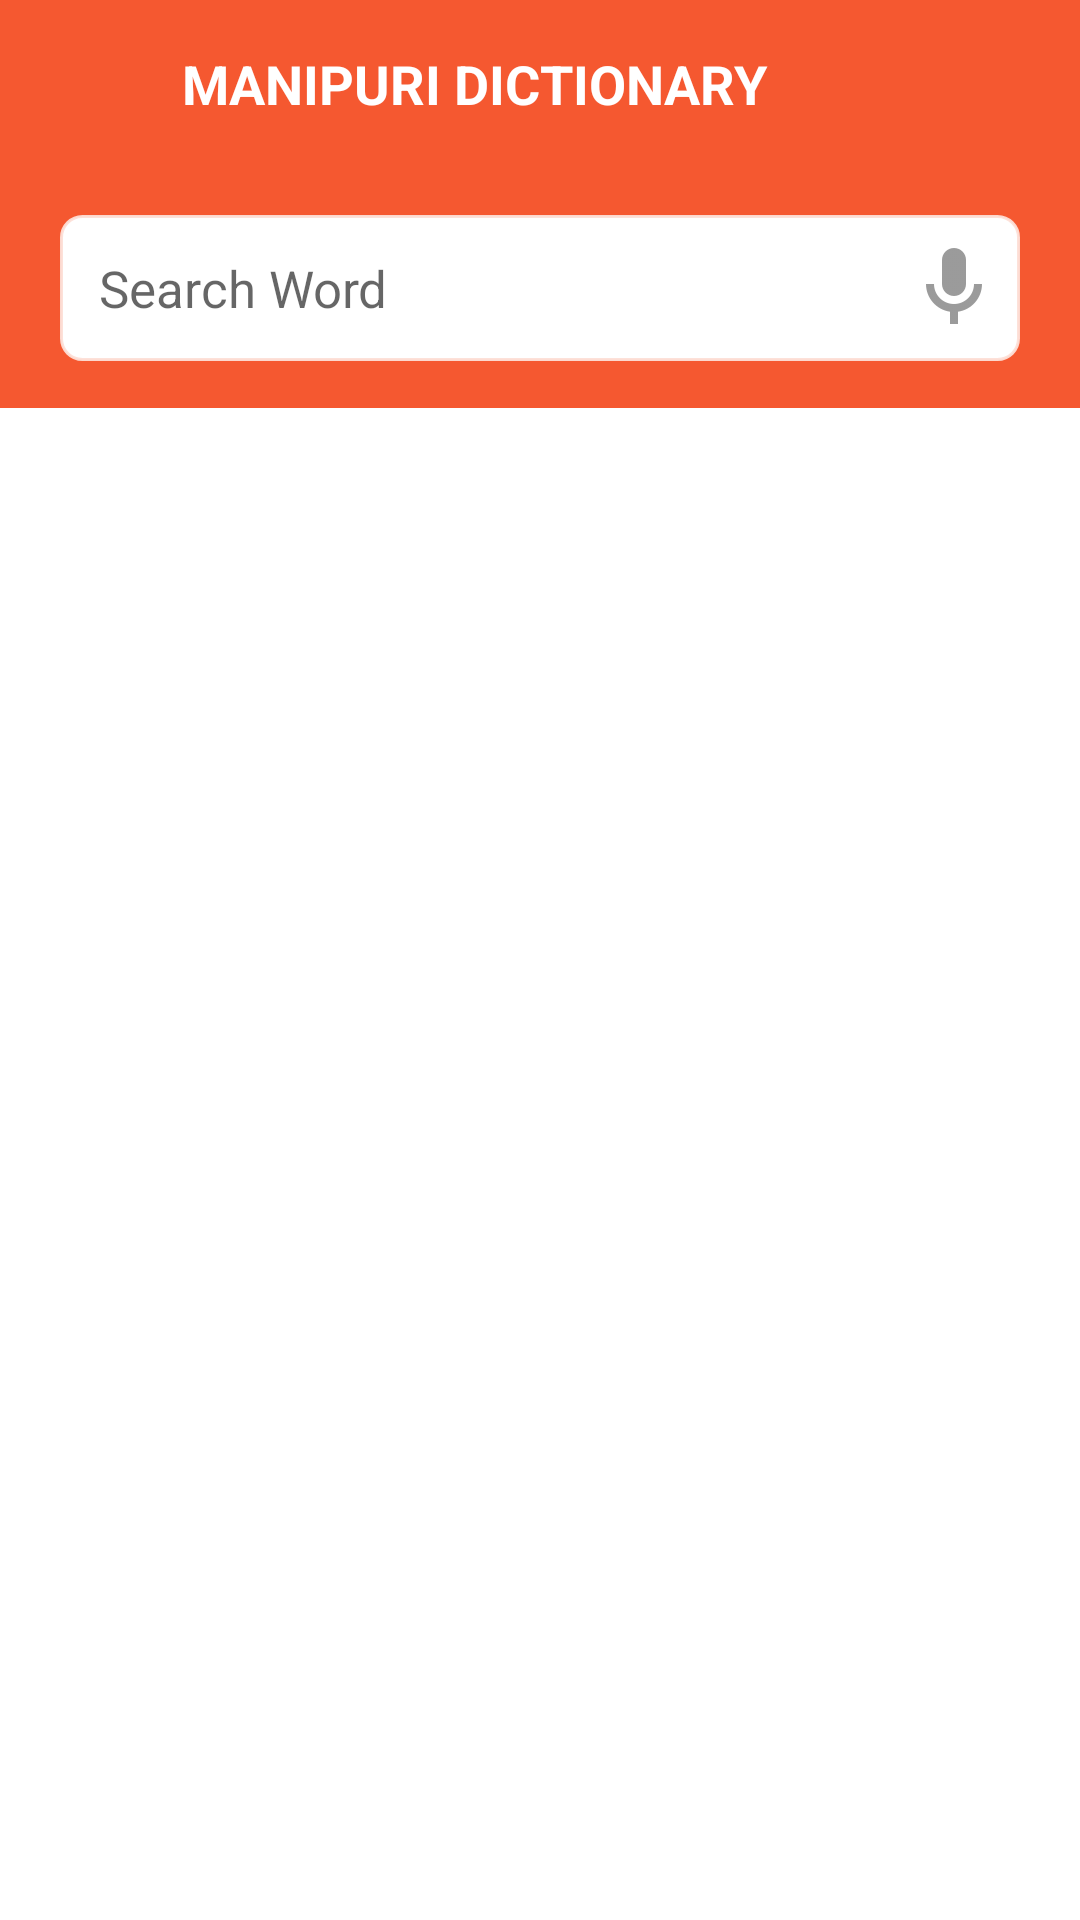

Point at icon controls on the screen. Image size 1080 x 1920, points as (x,y).
microphone: (954,288)
